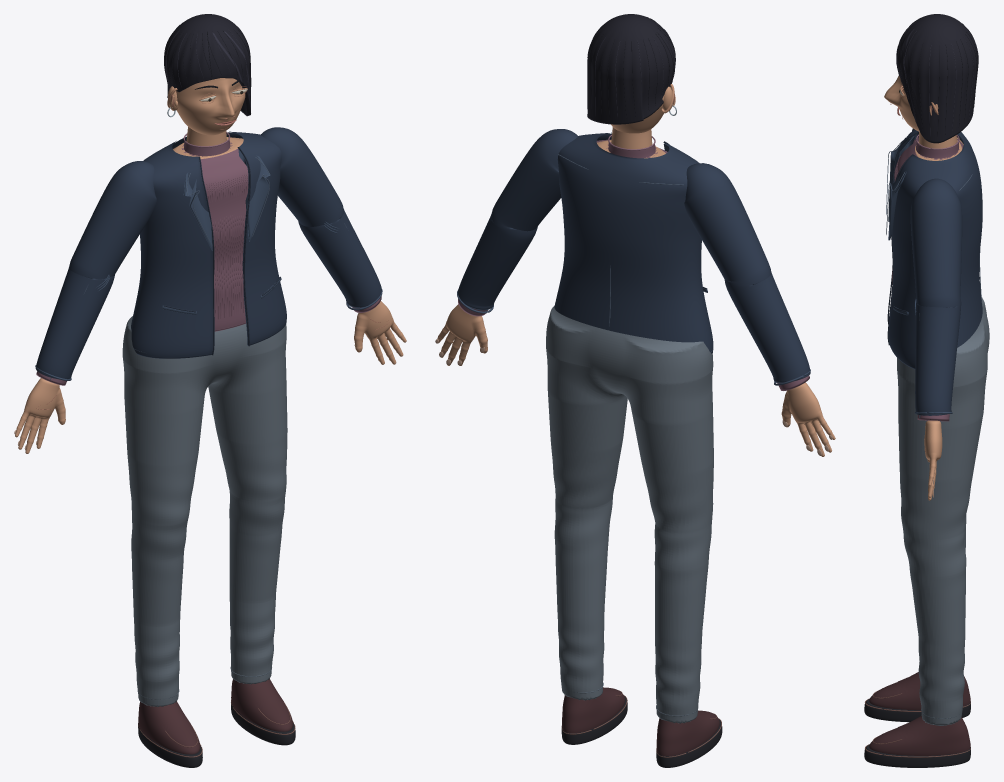
The picture shows the model from 3 angles, left to right: view 1: azimuth 30°, elevation 25°; view 2: azimuth 150°, elevation 25°; view 3: azimuth 270°, elevation 25°; orthographic projection.
Parts seen in each view (by area): view 1: Trousers / seamless tailored seat and legs, Jacket / continuous thick open shell, Jacket / L sleeve, Jacket / R sleeve, Knit / softly draped body, Hair / asymmetric bob shell, Face / continuous oval sculpt with nose and cheekbones, Hands / L continuous palm and five digits, Footwear / L upper, Footwear / R upper, Hands / R continuous palm and five digits, Jacket / R notched lapel (+3 smaller); view 2: Trousers / seamless tailored seat and legs, Jacket / continuous thick open shell, Jacket / L sleeve, Jacket / R sleeve, Hair / asymmetric bob shell, Hands / L continuous palm and five digits, Footwear / L upper, Footwear / R upper, Hands / R continuous palm and five digits, Footwear / L sole, Footwear / R sole, Anatomy / neck; view 3: Trousers / seamless tailored seat and legs, Jacket / R sleeve, Jacket / continuous thick open shell, Hair / asymmetric bob shell, Footwear / R upper, Footwear / R sole, Footwear / L upper, Hands / R continuous palm and five digits, Footwear / L sole, Face / continuous oval sculpt with nose and cheekbones, Jacket / L notched lapel, Knit / relaxed stand collar (+4 smaller).
Boxes of the visible parts, left/top/right/bottom form: Trousers / seamless tailored seat and legs: left=122, top=316, right=287, bottom=706; Jacket / continuous thick open shell: left=131, top=131, right=286, bottom=358; Jacket / L sleeve: left=35, top=161, right=156, bottom=379; Jacket / R sleeve: left=261, top=127, right=381, bottom=307; Knit / softly draped body: left=181, top=142, right=248, bottom=331; Hair / asymmetric bob shell: left=164, top=14, right=250, bottom=116; Face / continuous oval sculpt with nose and cheekbones: left=176, top=78, right=245, bottom=135; Hands / L continuous palm and five digits: left=15, top=378, right=65, bottom=453; Footwear / L upper: left=138, top=701, right=200, bottom=754; Footwear / R upper: left=231, top=679, right=292, bottom=731; Hands / R continuous palm and five digits: left=354, top=301, right=406, bottom=364; Jacket / R notched lapel: left=238, top=149, right=270, bottom=241; Trousers / seamless tailored seat and legs: left=546, top=306, right=713, bottom=723; Jacket / continuous thick open shell: left=554, top=132, right=713, bottom=353; Jacket / L sleeve: left=684, top=163, right=810, bottom=382; Jacket / R sleeve: left=458, top=129, right=577, bottom=310; Hair / asymmetric bob shell: left=587, top=14, right=675, bottom=124; Hands / L continuous palm and five digits: left=781, top=382, right=835, bottom=456; Footwear / L upper: left=656, top=710, right=719, bottom=756; Footwear / R upper: left=562, top=687, right=624, bottom=733; Hands / R continuous palm and five digits: left=437, top=304, right=487, bottom=365; Footwear / L sole: left=656, top=719, right=722, bottom=767; Footwear / R sole: left=561, top=696, right=627, bottom=744; Anatomy / neck: left=611, top=127, right=652, bottom=149; Trousers / seamless tailored seat and legs: left=897, top=297, right=989, bottom=725; Jacket / R sleeve: left=910, top=178, right=962, bottom=415; Jacket / continuous thick open shell: left=888, top=129, right=982, bottom=369; Hair / asymmetric bob shell: left=896, top=14, right=978, bottom=143; Footwear / R upper: left=869, top=716, right=970, bottom=755; Footwear / R sole: left=864, top=744, right=970, bottom=767; Footwear / L upper: left=869, top=672, right=970, bottom=710; Hands / R continuous palm and five digits: left=924, top=420, right=942, bottom=500; Footwear / L sole: left=864, top=699, right=970, bottom=722; Face / continuous oval sculpt with nose and cheekbones: left=884, top=75, right=919, bottom=131; Jacket / L notched lapel: left=888, top=136, right=915, bottom=221; Knit / relaxed stand collar: left=916, top=142, right=958, bottom=158.
Bounding box in the file's own units: 1.01 × 1.76 × 0.278.
